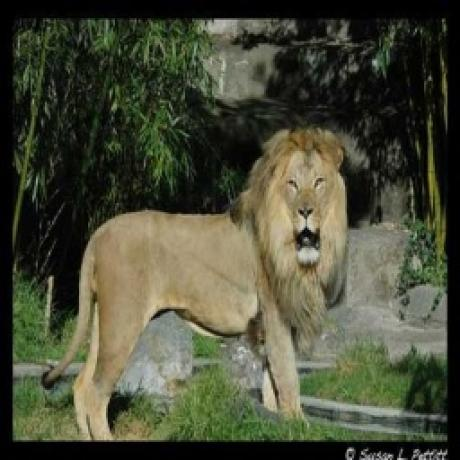Lion: (40, 121, 351, 441)
